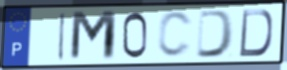0: (121, 11, 148, 60)
C: (155, 10, 194, 60)
D: (194, 9, 236, 60), (237, 8, 274, 58)
I: (56, 11, 68, 62)
M: (68, 9, 119, 63)
